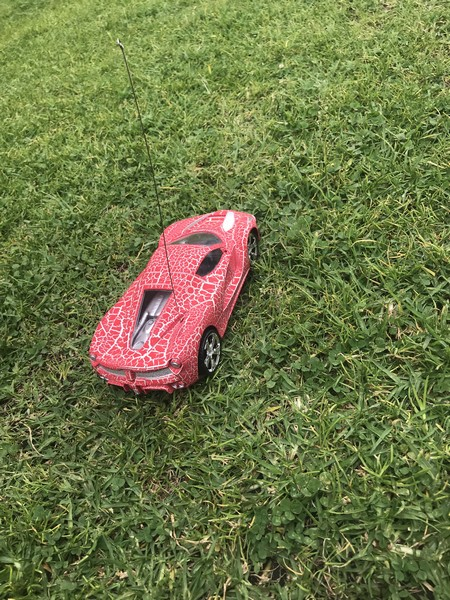RC: (87, 208, 262, 399)
